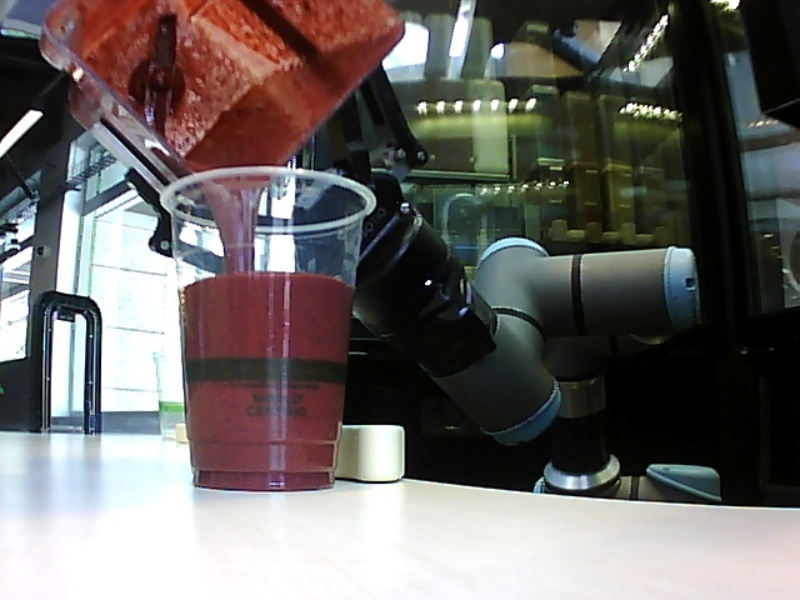cup: (153, 161, 381, 497)
limit: (177, 262, 356, 293)
